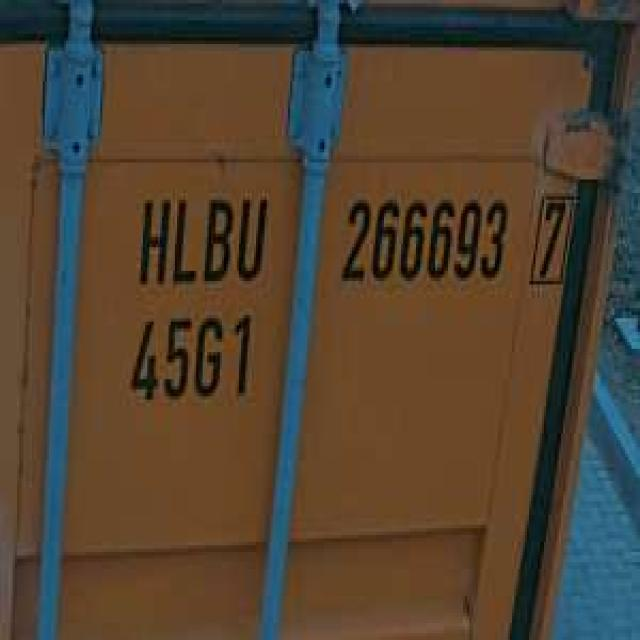dv: (525, 183, 576, 294)
owner: (132, 180, 271, 291)
serial: (333, 183, 510, 291)
size: (122, 301, 258, 413)
